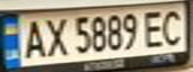5: (69, 12, 93, 55)
8: (87, 12, 109, 53), (106, 11, 127, 52)
9: (121, 10, 142, 51)
A: (18, 16, 48, 60)
C: (157, 7, 190, 46)
E: (139, 7, 169, 48)
X: (39, 15, 69, 57)
